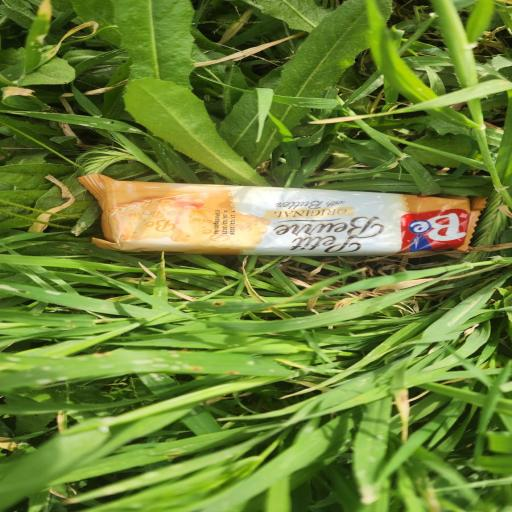petit-beurre: (23, 145, 491, 288)
